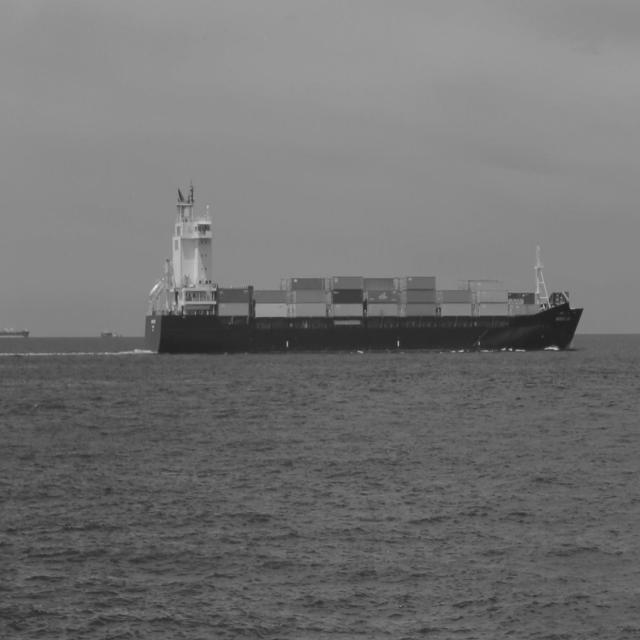ship: (144, 186, 586, 354)
